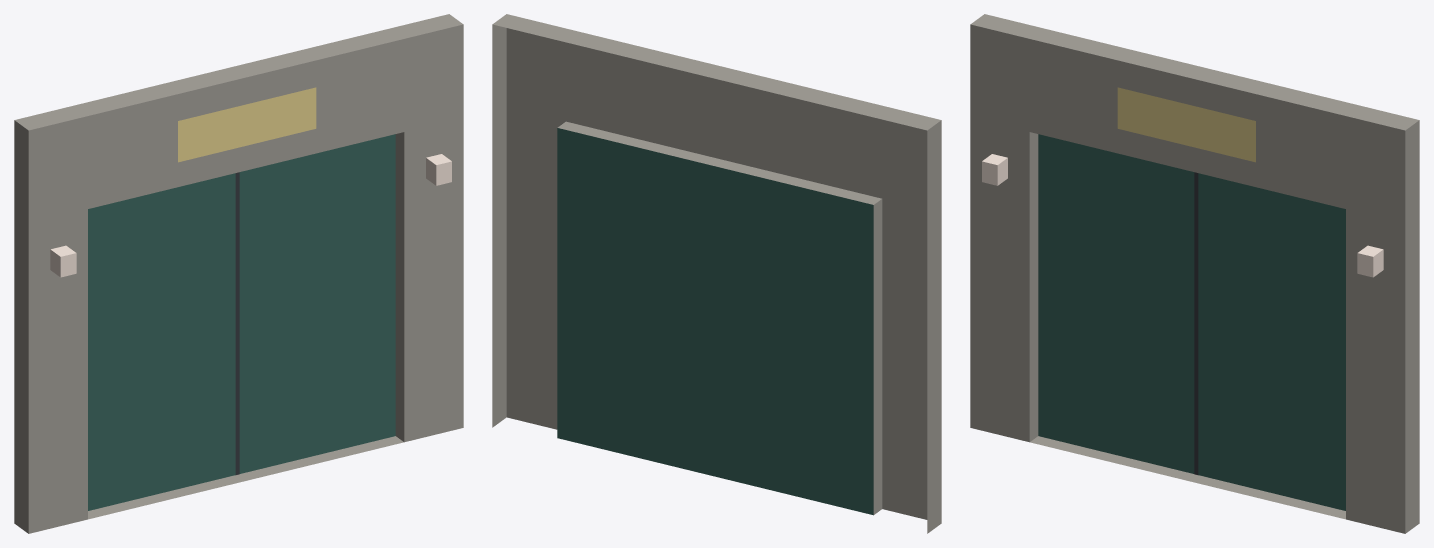
The model's file is entrance.fbx.
3 renders of one model, left to right at view 1: azimuth 30°, elevation 25°; view 2: azimuth 150°, elevation 25°; view 3: azimuth 330°, elevation 25°, orthographic.
Parts seen in each view (by area): view 1: a2013/700/entrance; view 2: a2013/700/entrance; view 3: a2013/700/entrance.
Part boxes in pixels (<box>): a2013/700/entrance: <box>14,14,463,533</box>; a2013/700/entrance: <box>492,14,941,533</box>; a2013/700/entrance: <box>970,14,1419,533</box>.
Size of the model in its own units: 4.4 by 3.9 by 0.43.
